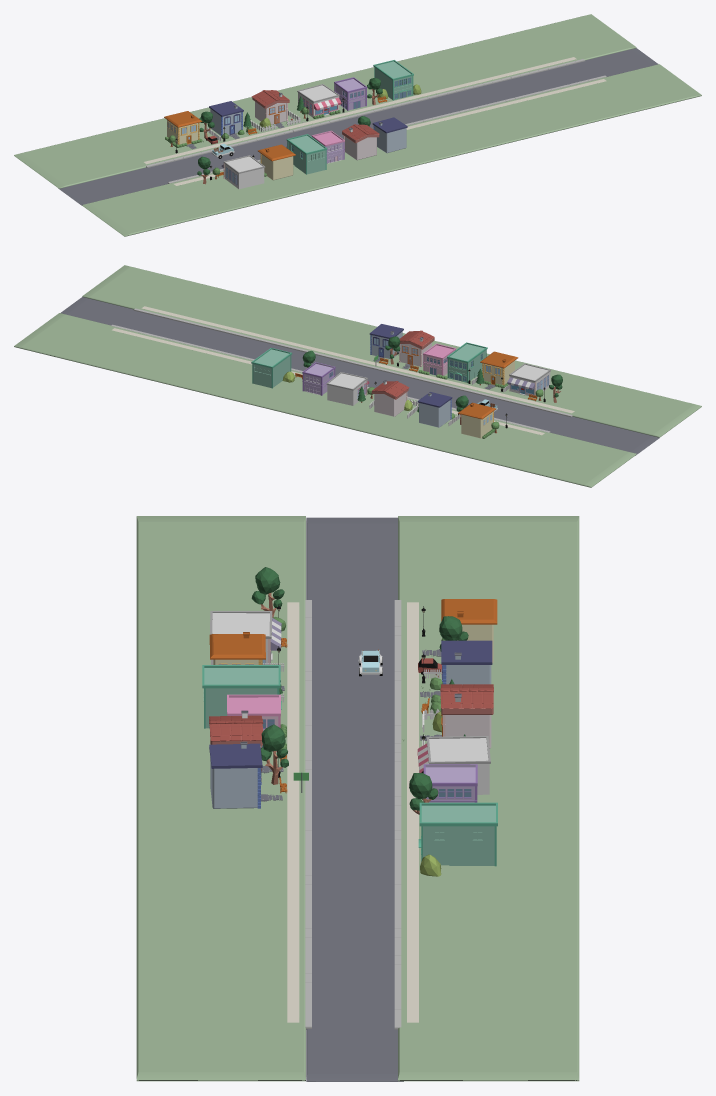
File: cadde.fbx
The picture shows the model from 3 angles, top to bottom: view 1: azimuth 30°, elevation 25°; view 2: azimuth 150°, elevation 25°; view 3: azimuth 270°, elevation 25°; orthographic projection. The views are drawn at different scales.
Visible parts, largest first — view 1: lawn2, lawn, yol, yuruyusyolu, yesilbina3, yesilbina, cam13, pembeev1, pembeev, beyazbina1, turuncuev2, maviev (+5 smaller); view 2: lawn, lawn2, yol, yuruyusyolu2, yesilbina, yesilbina3, cam13, beyazbina1, pembeev, maviev, turuncuev2, turuncuev (+5 smaller); view 3: lawn, lawn2, yol, yuruyusyolu2, yesilbina, yuruyusyolu, maviev1, yesilbina3, pembeev, beyazbina1, maviev, turuncuev (+7 smaller).
Part boxes in pixels (left/top/right/bottom): lawn2: left=82, top=64, right=701, bottom=236; lawn: left=14, top=14, right=636, bottom=188; yol: left=58, top=48, right=658, bottom=205; yuruyusyolu: left=144, top=57, right=576, bottom=164; yesilbina3: left=286, top=134, right=327, bottom=174; yesilbina: left=373, top=60, right=413, bottom=100; cam13: left=221, top=155, right=265, bottom=189; pembeev1: left=342, top=124, right=379, bottom=160; pembeev: left=251, top=90, right=289, bottom=128; beyazbina1: left=297, top=84, right=341, bottom=117; turuncuev2: left=258, top=144, right=295, bottom=180; maviev: left=209, top=101, right=243, bottom=139; lawn: left=14, top=313, right=636, bottom=487; lawn2: left=82, top=265, right=701, bottom=437; yol: left=60, top=297, right=659, bottom=455; yuruyusyolu2: left=141, top=306, right=574, bottom=413; yesilbina: left=251, top=348, right=292, bottom=388; yesilbina3: left=447, top=342, right=487, bottom=382; cam13: left=507, top=363, right=550, bottom=395; beyazbina1: left=326, top=372, right=369, bottom=405; pembeev: left=371, top=380, right=409, bottom=416; maviev: left=417, top=392, right=452, bottom=427; turuncuev2: left=480, top=351, right=518, bottom=389; turuncuev: left=458, top=402, right=495, bottom=438; lawn: left=398, top=516, right=579, bottom=1081; lawn2: left=136, top=516, right=305, bottom=1081; yol: left=306, top=517, right=403, bottom=1081; yuruyusyolu2: left=287, top=602, right=299, bottom=1022; yesilbina: left=418, top=802, right=497, bottom=866; yuruyusyolu: left=407, top=602, right=418, bottom=1022; maviev1: left=209, top=741, right=282, bottom=808; yesilbina3: left=202, top=665, right=281, bottom=728; pembeev: left=420, top=684, right=493, bottom=748; beyazbina1: left=417, top=736, right=490, bottom=794; maviev: left=420, top=640, right=492, bottom=697; turuncuev: left=422, top=599, right=497, bottom=663.
Bounding box in the file's own units: 152 × 7.55 × 50.47.
